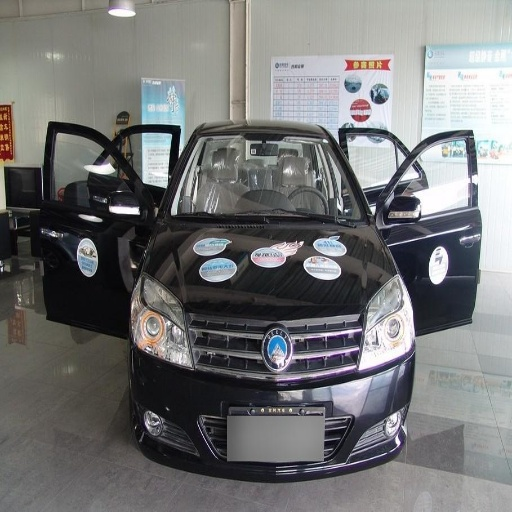front_bumper: (132, 295, 412, 484)
front_left_light: (361, 279, 413, 372)
front_right_door: (50, 120, 112, 183)
front_right_light: (134, 276, 193, 369)
hood: (150, 218, 393, 326)
